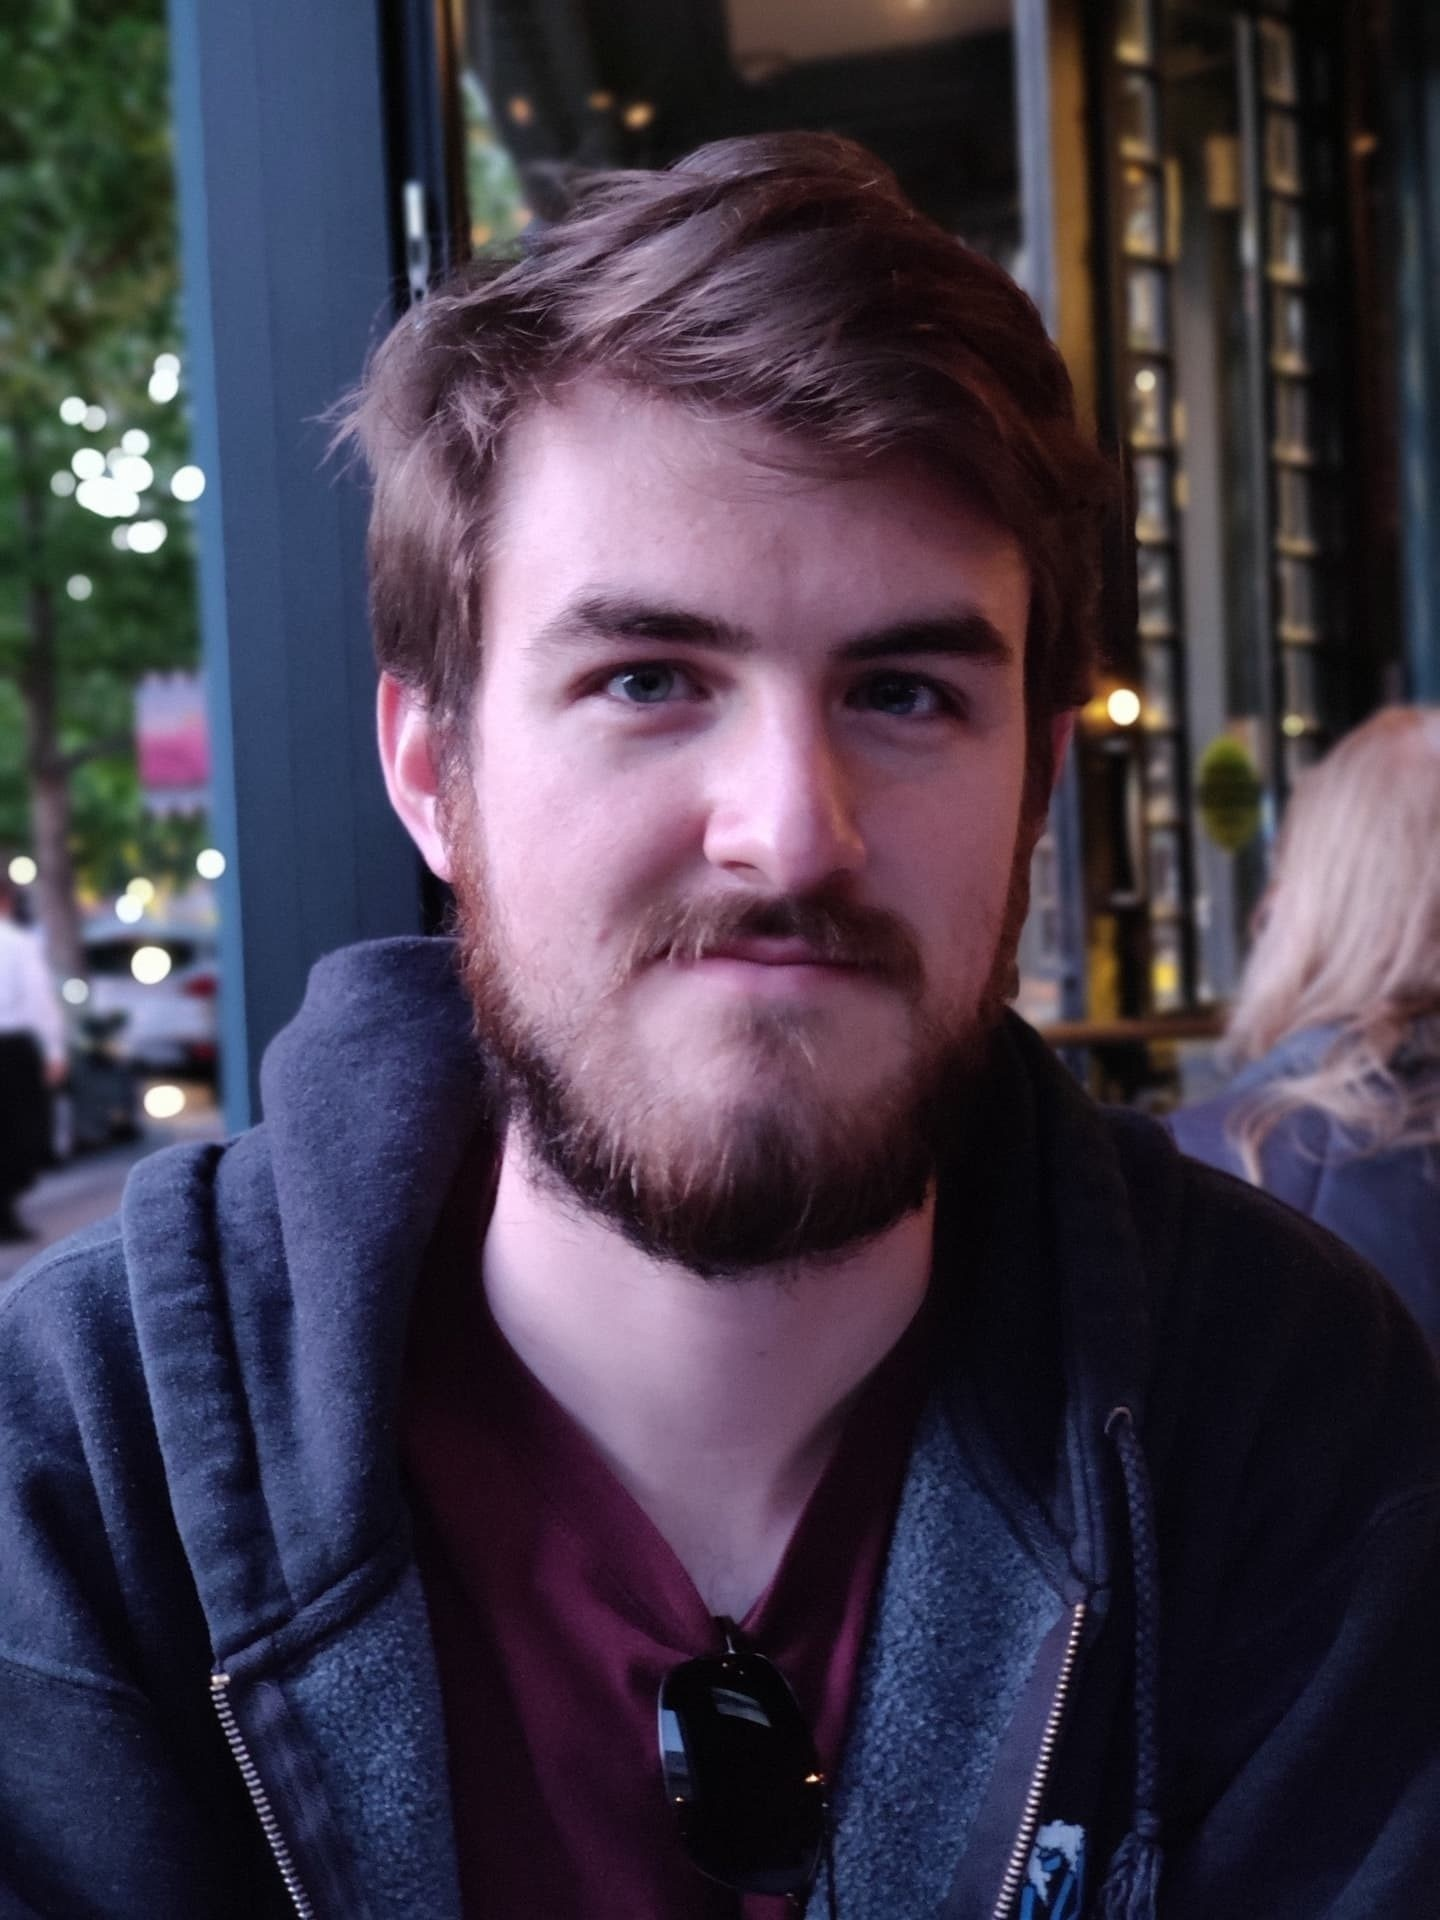face_no_mask: (386, 246, 1092, 1245)
